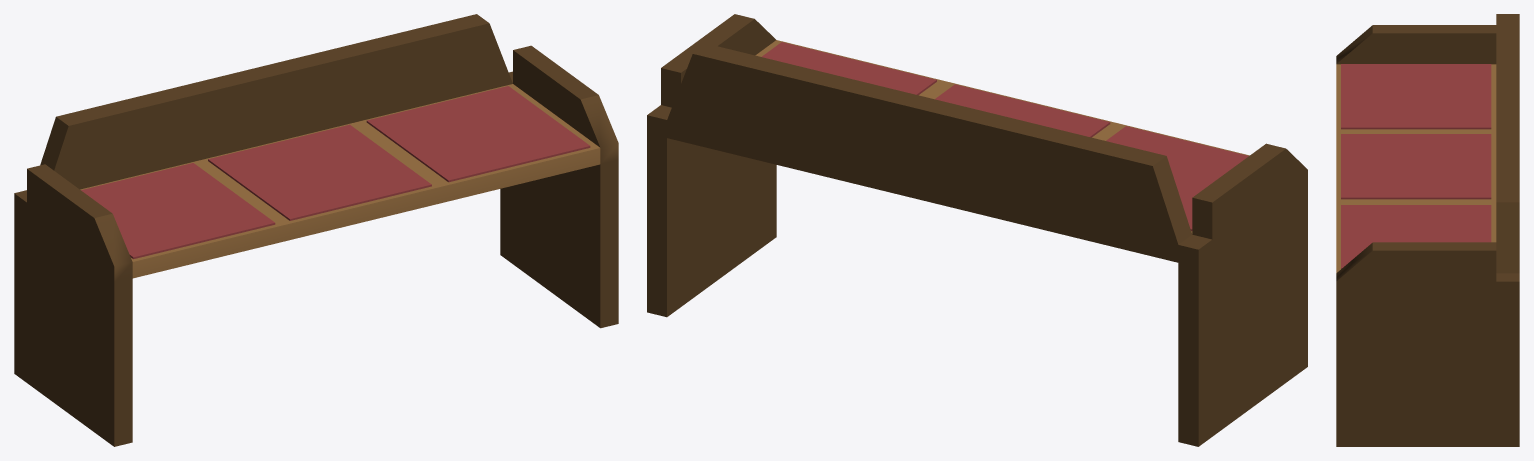
The model's file is bench.fbx.
3 renders of one model, left to right at view 1: azimuth 30°, elevation 25°; view 2: azimuth 150°, elevation 25°; view 3: azimuth 270°, elevation 25°, orthographic. The views are drawn at different scales.
Visible parts, largest first — view 1: pCube5; view 2: pCube5; view 3: pCube5.
Part boxes in pixels (left/top/right/bottom): pCube5: left=14, top=14, right=618, bottom=446; pCube5: left=647, top=14, right=1307, bottom=446; pCube5: left=1336, top=14, right=1519, bottom=446.
Size of the model in its own units: 16 by 7.48 by 5.5.
